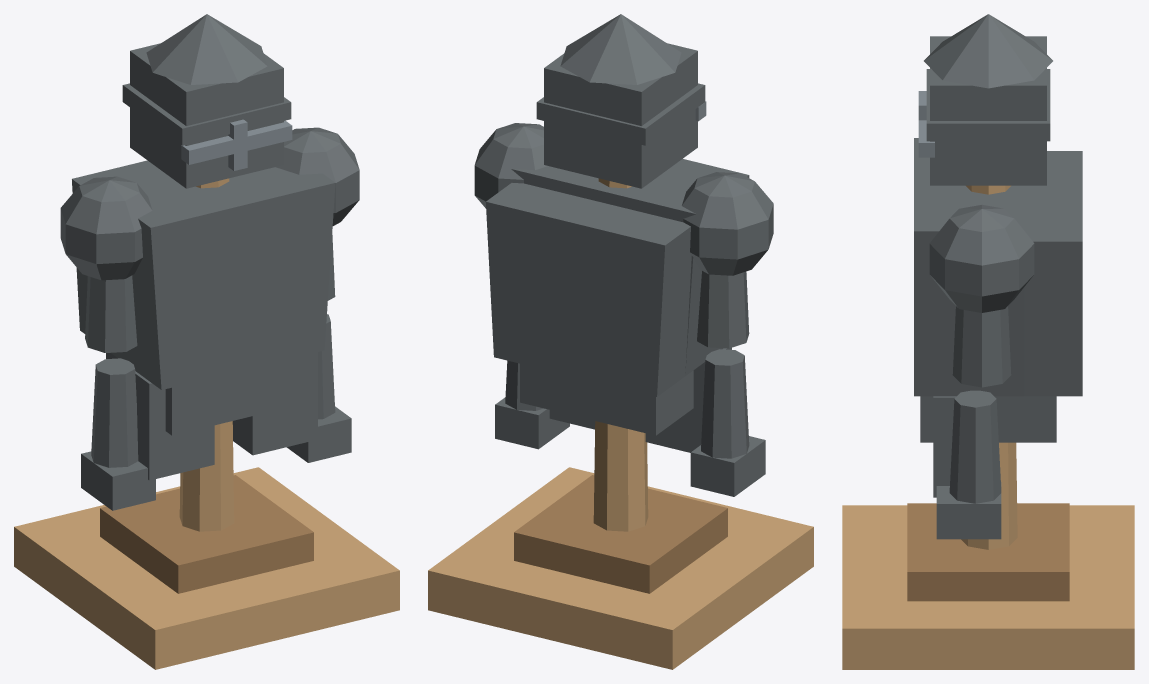
File: armour-stand-h.glb
3 renders of one model, left to right at view 1: azimuth 30°, elevation 25°; view 2: azimuth 150°, elevation 25°; view 3: azimuth 270°, elevation 25°, orthographic. The views are drawn at different scales.
Parts seen in each view (by area): view 1: armour-stand-harness; view 2: armour-stand-harness; view 3: armour-stand-harness.
Part boxes in pixels (box(x1,y1,x2,y2)): armour-stand-harness: box(14, 14, 399, 669); armour-stand-harness: box(428, 14, 813, 669); armour-stand-harness: box(842, 14, 1134, 669).
Size of the model in its own units: 1.06 by 2.02 by 0.9.
